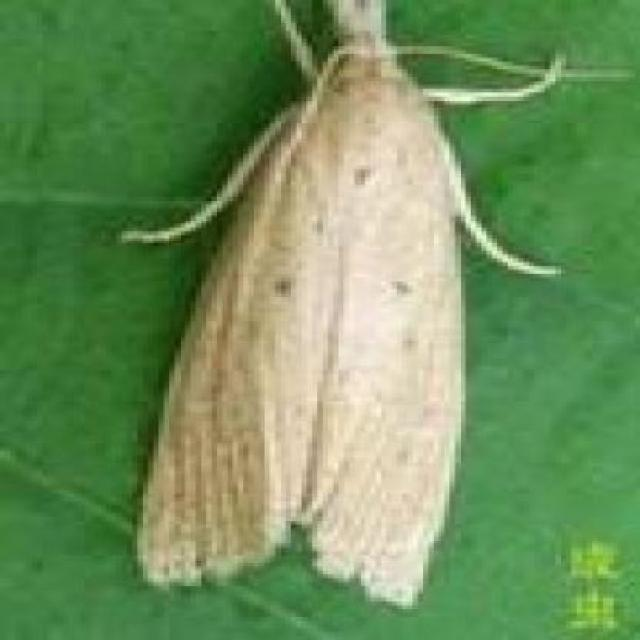stem-borer: (124, 0, 517, 612)
